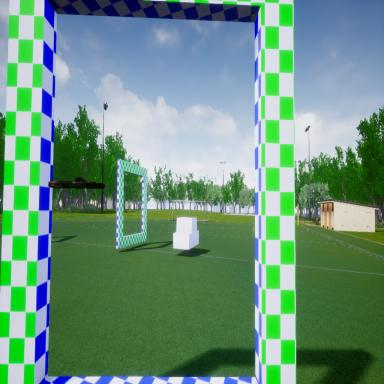gate: (116, 154, 148, 255)
